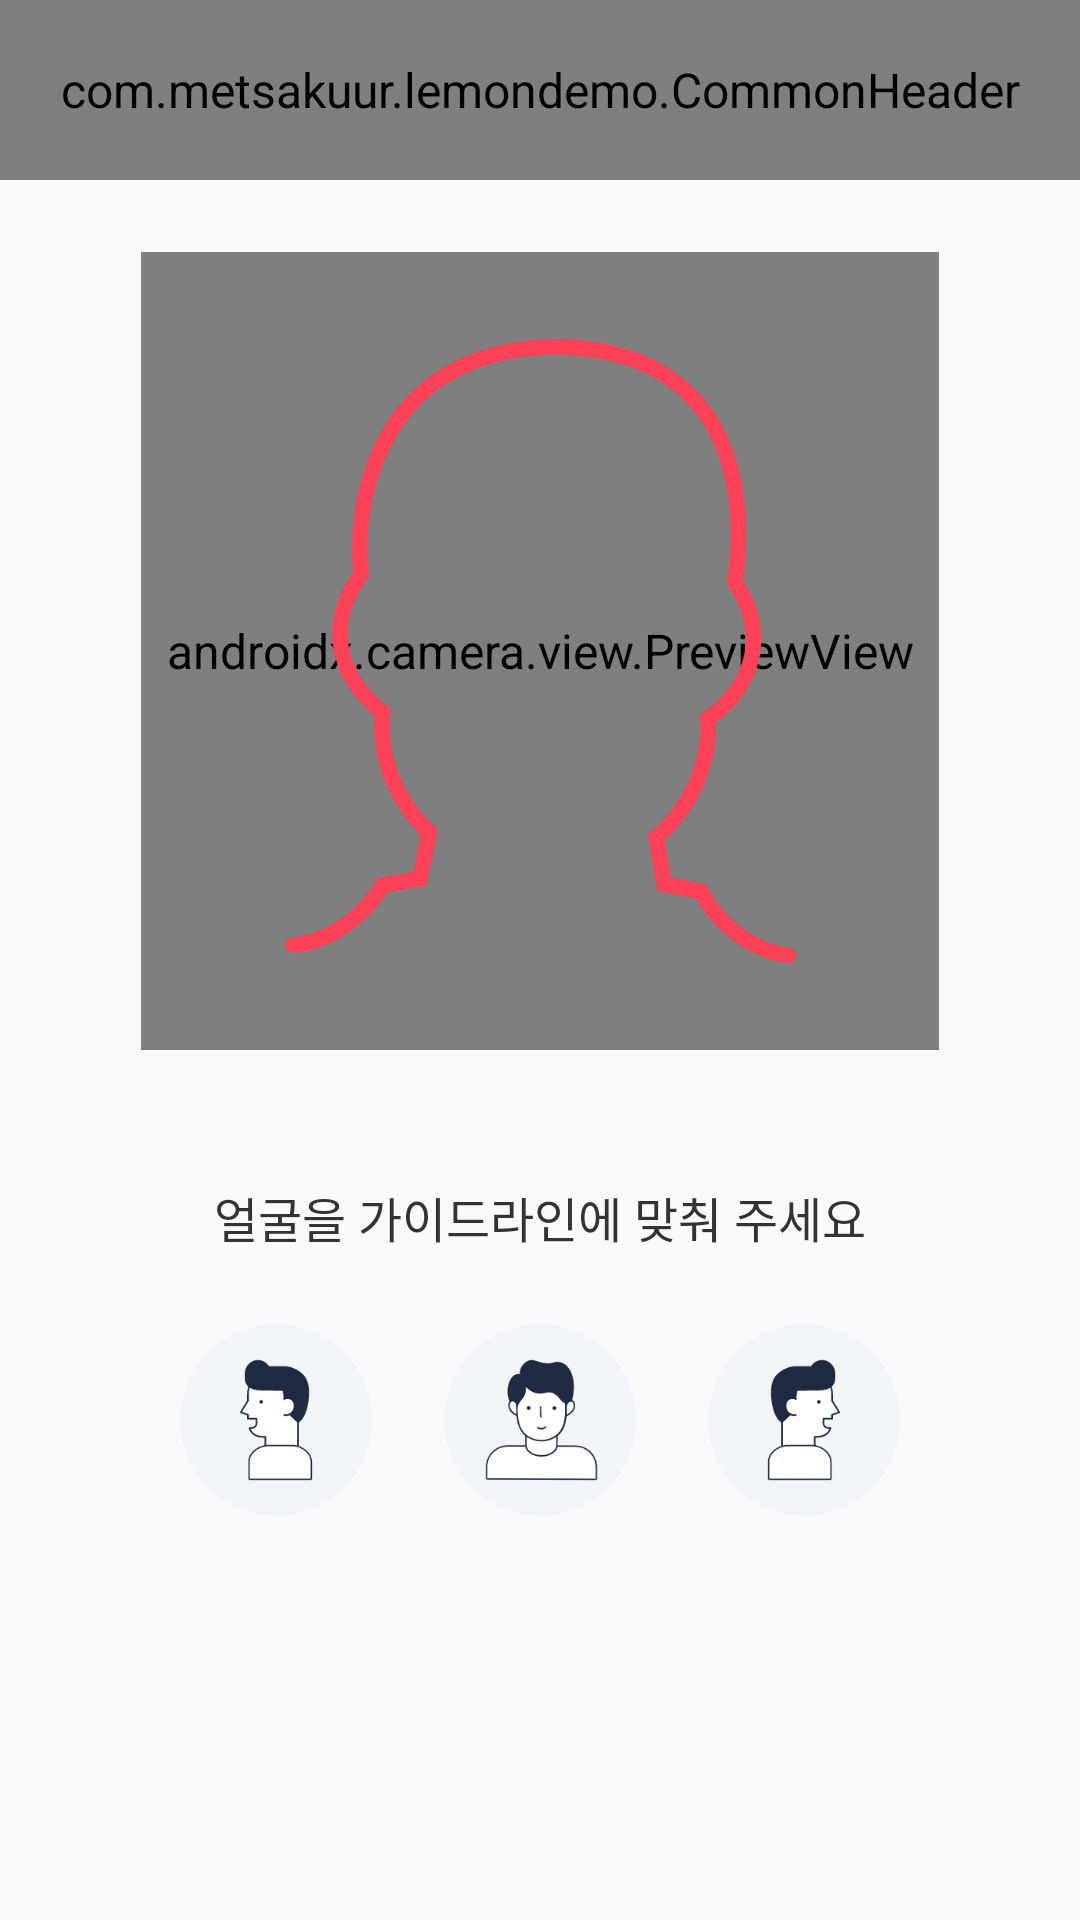

Screen size 1080*1920. Icon name, then its center in pixels as [x,y]:
front off: [541,1420]
left off: [276,1420]
right off: [803,1420]
